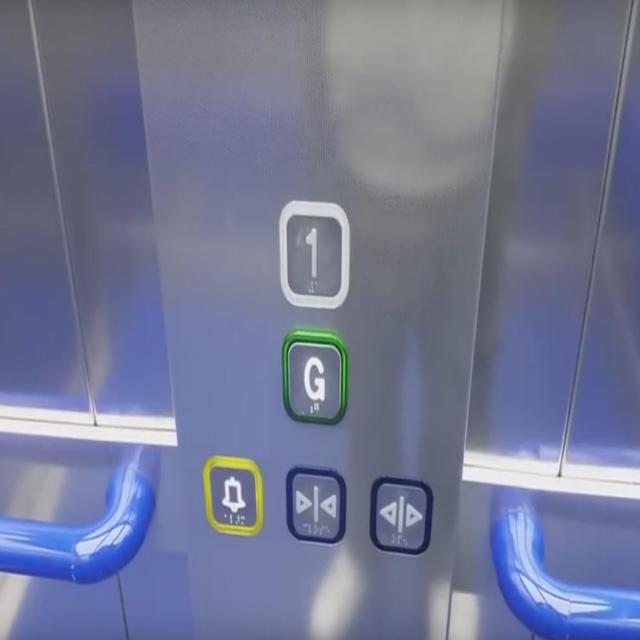1: (276, 194, 352, 312)
G: (279, 324, 348, 429)
alarm: (200, 451, 265, 541)
close: (282, 461, 348, 547)
open: (367, 472, 435, 558)
